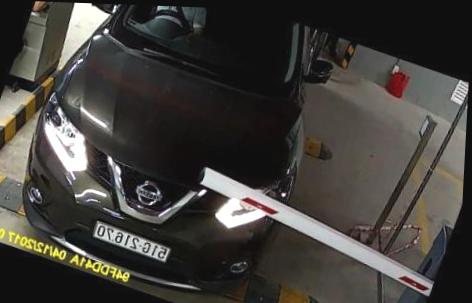License_Plate: (90, 217, 171, 266)
